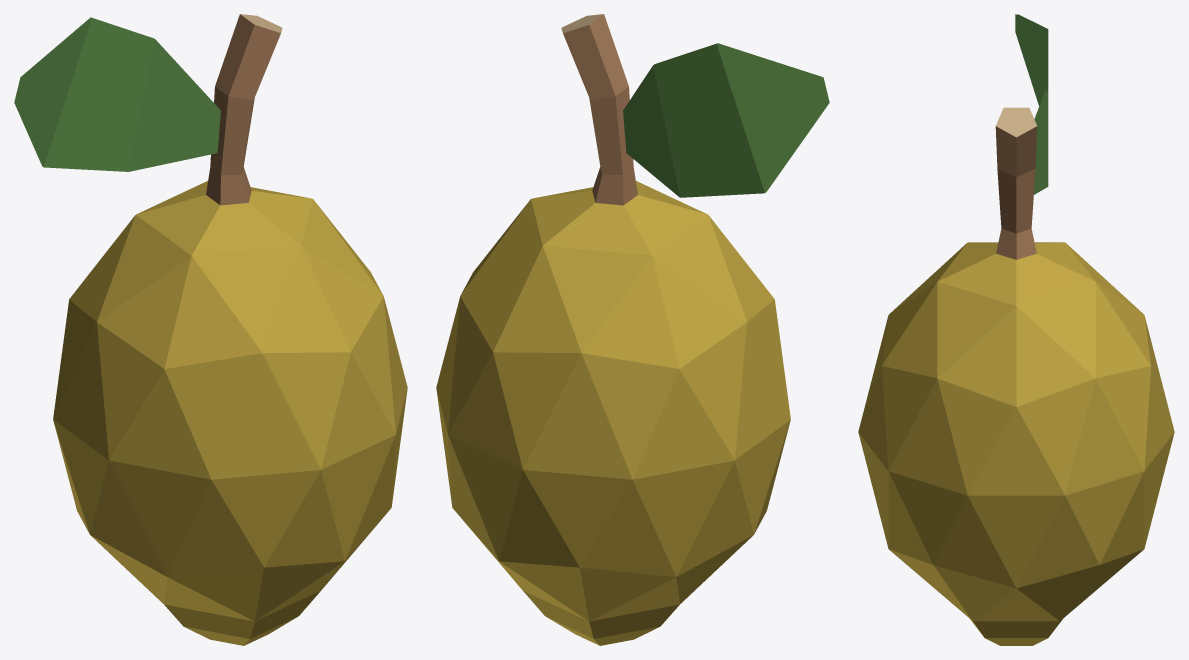
File: Lemon.fbx
The picture shows the model from 3 angles, left to right: view 1: azimuth 30°, elevation 25°; view 2: azimuth 150°, elevation 25°; view 3: azimuth 270°, elevation 25°; orthographic projection. The views are drawn at different scales.
Parts seen in each view (by area): view 1: Lemon; view 2: Lemon; view 3: Lemon.
Part boxes in pixels (x1,y1,x2,y2): Lemon: [14, 14, 407, 645]; Lemon: [436, 14, 829, 645]; Lemon: [858, 14, 1174, 645].
Bounding box in the file's own units: 0.3478 × 0.577 × 0.2993.
